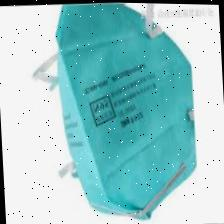mask: (39, 1, 205, 224)
